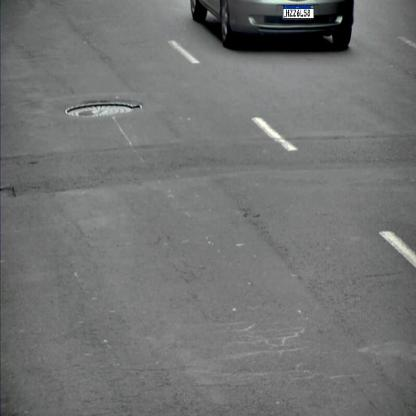PlacaM: (283, 5, 314, 19)
